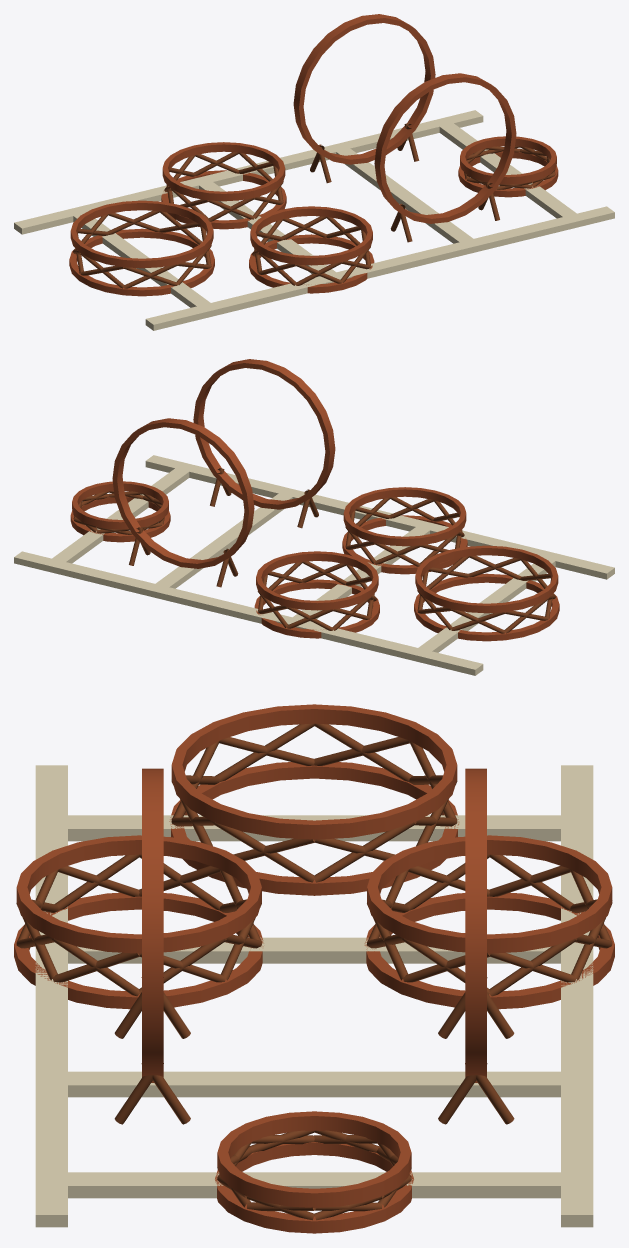
File: u500_cradle.obj
3 views of the same model, one above another, from view 1: azimuth 30°, elevation 25°; view 2: azimuth 150°, elevation 25°; view 3: azimuth 270°, elevation 25° (orthographic). The views are drawn at different scales.
Parts seen in each view (by area): view 1: u500_cradle; view 2: u500_cradle; view 3: u500_cradle.
Boxes of the visible parts, x1=… form: u500_cradle: x1=14, y1=14, x2=614, y2=330; u500_cradle: x1=14, y1=359, x2=614, y2=675; u500_cradle: x1=14, y1=704, x2=614, y2=1233.
Bounding box in the file's own units: 8.09 × 2.52 × 4.46.
